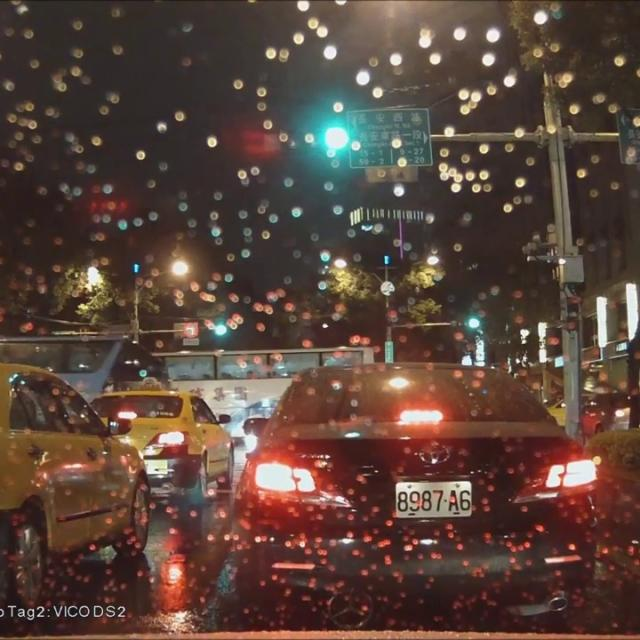Car: (230, 356, 601, 632), (0, 357, 154, 604), (88, 383, 236, 506), (574, 388, 634, 439), (544, 389, 594, 429)
